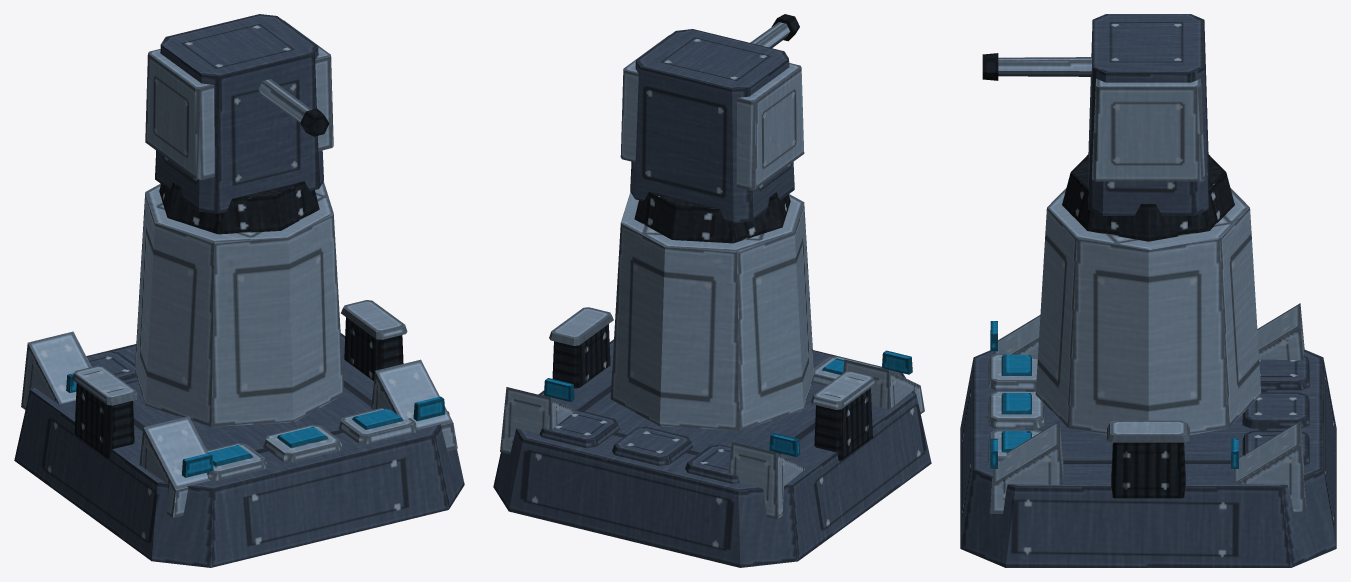
File: building-autocannon.fbx
3 renders of one model, left to right at view 1: azimuth 30°, elevation 25°; view 2: azimuth 150°, elevation 25°; view 3: azimuth 270°, elevation 25°, orthographic. The views are drawn at different scales.
Visible parts, largest first — view 1: building-autocannon; view 2: building-autocannon; view 3: building-autocannon.
Part boxes in pixels (left/top/right/bottom): building-autocannon: left=14, top=14, right=464, bottom=567; building-autocannon: left=493, top=14, right=931, bottom=567; building-autocannon: left=960, top=14, right=1336, bottom=567.
Size of the model in its own units: 728 by 950 by 728.
1 material, 1 textured.
